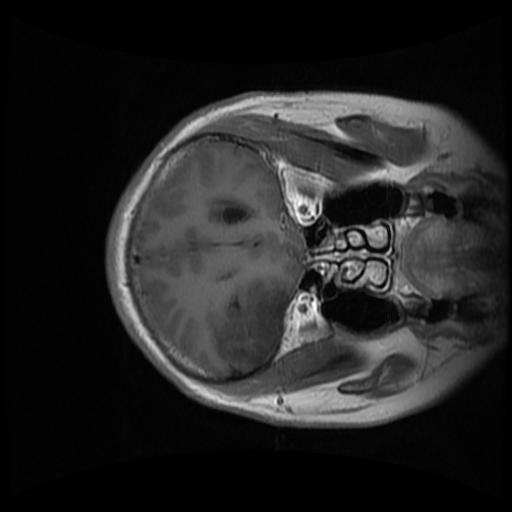glioma: (207, 280, 290, 373)
